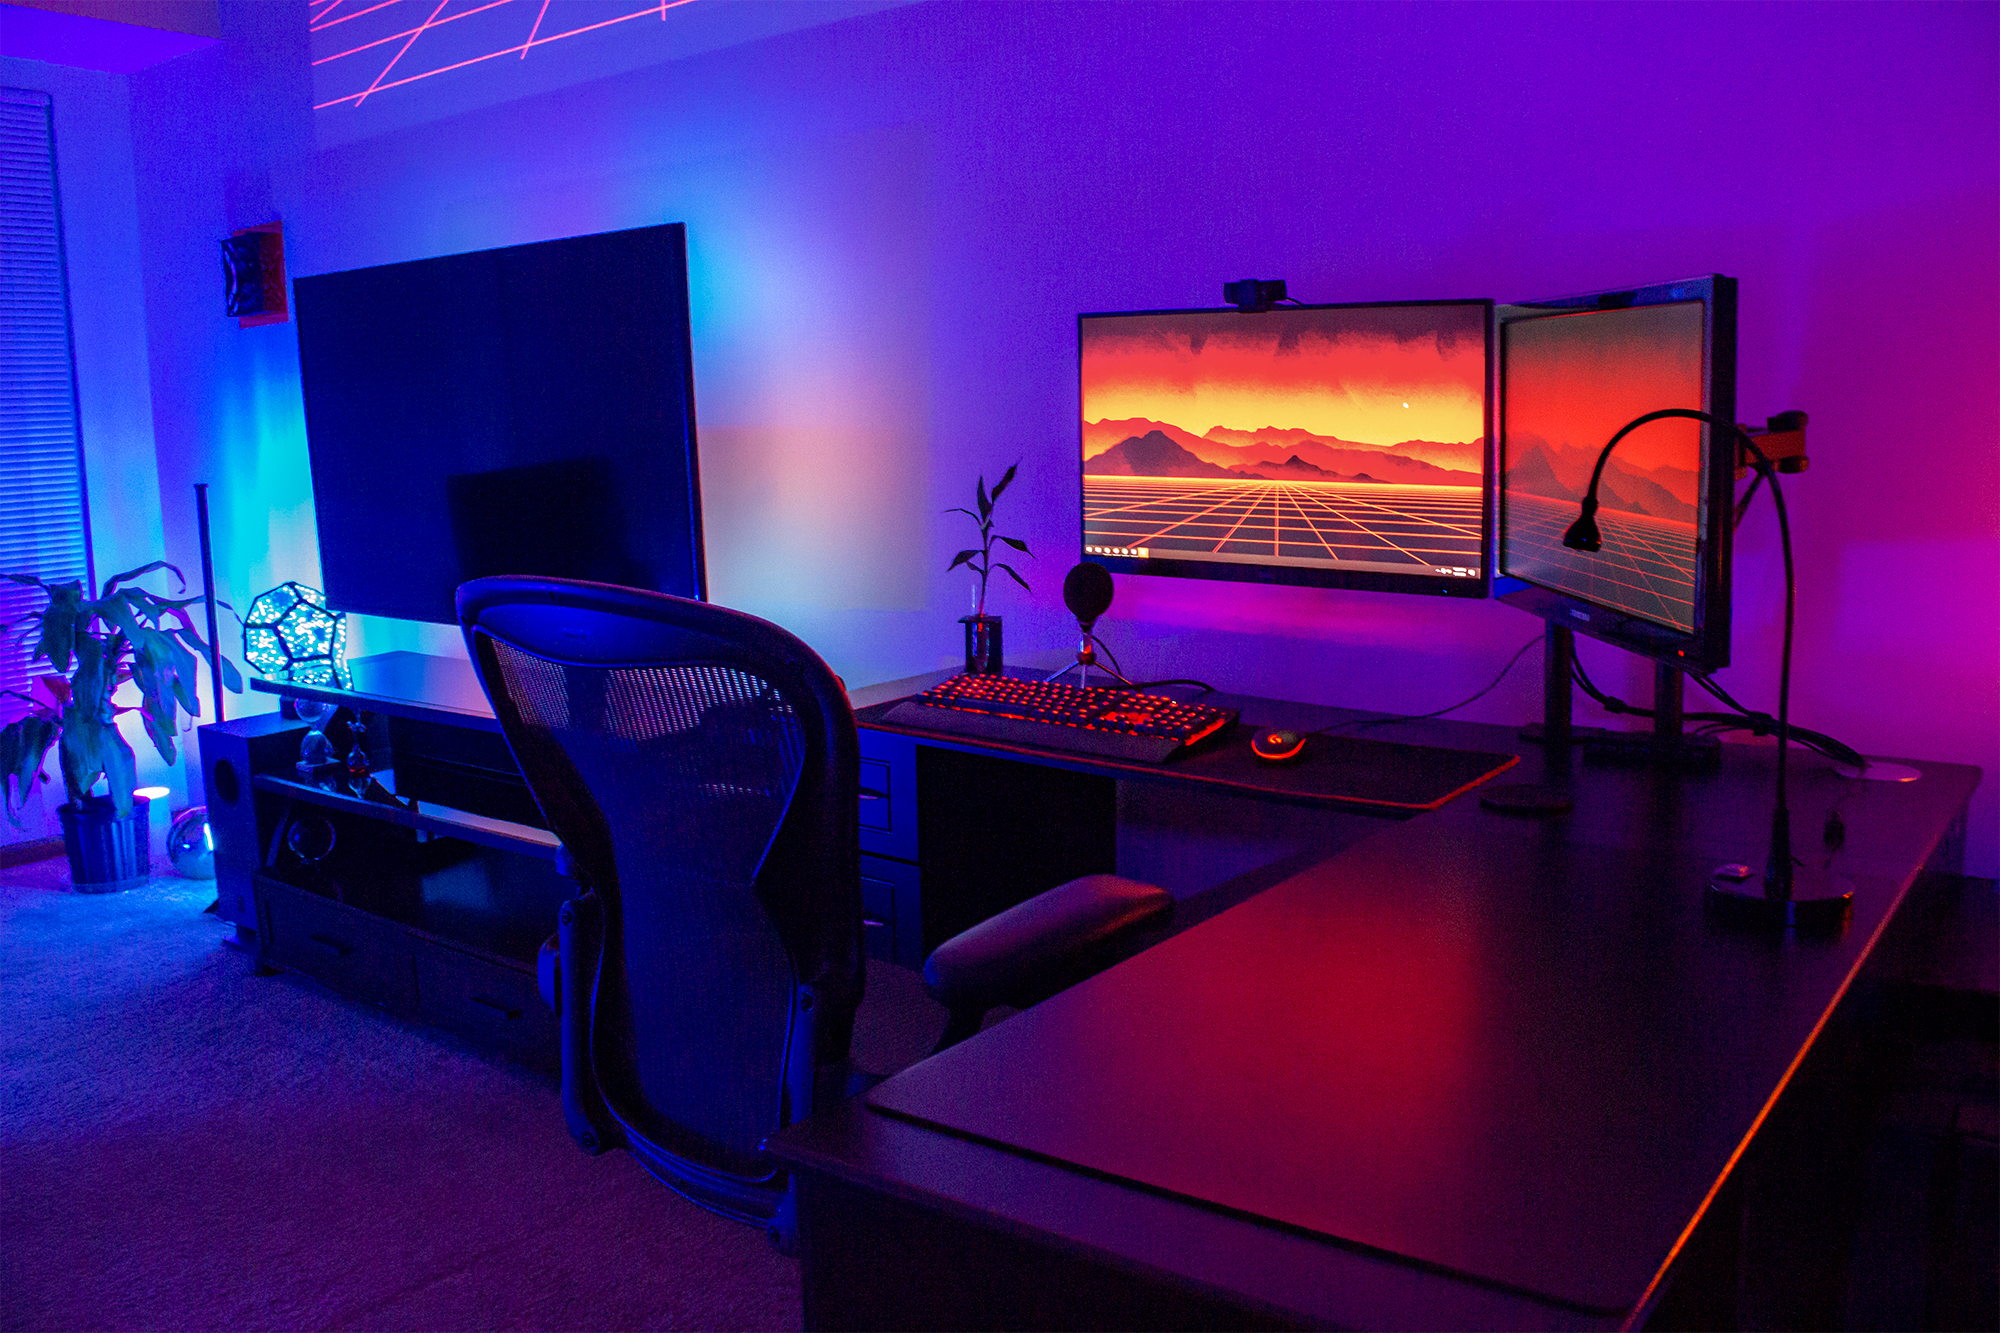Chair (Generic): (455, 573, 1172, 1250)
Decoration (Plant): (1, 559, 245, 891), (941, 454, 1041, 678)
Desk (Generic): (761, 664, 1982, 1332)
External Microphone (Generic): (1045, 562, 1135, 692)
External Webcam: (1224, 277, 1289, 309)
Keyboard (Gaming): (917, 669, 1239, 748)
Lamp (Desk): (1566, 414, 1856, 928)
Monitor (Landscape): (1074, 296, 1491, 600), (1493, 274, 1738, 672)
Monitor Arm: (1740, 406, 1811, 482)
Mouse (Gaming): (1248, 725, 1306, 765)
Mousepad (Gaming): (848, 677, 1521, 811)
